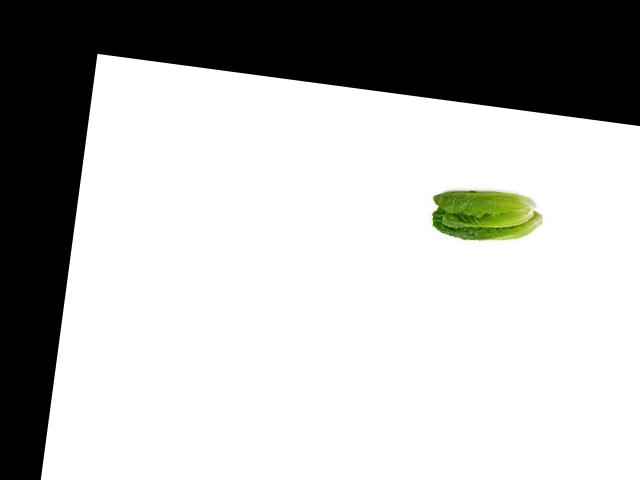lettuce: (427, 176, 545, 248)
